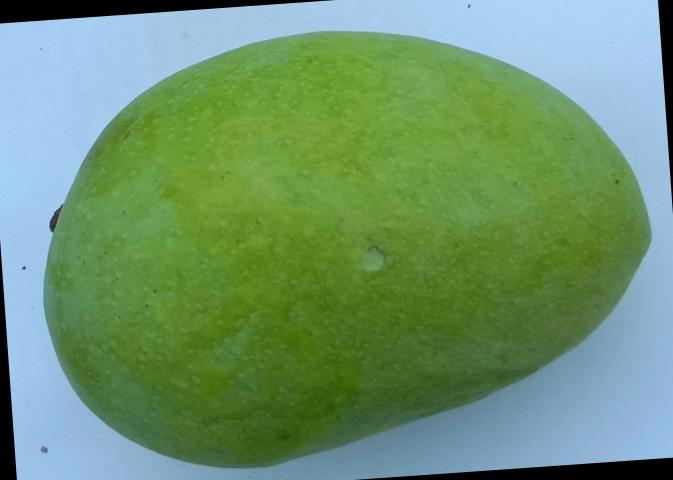Mango Unripe: (1, 0, 673, 480)
